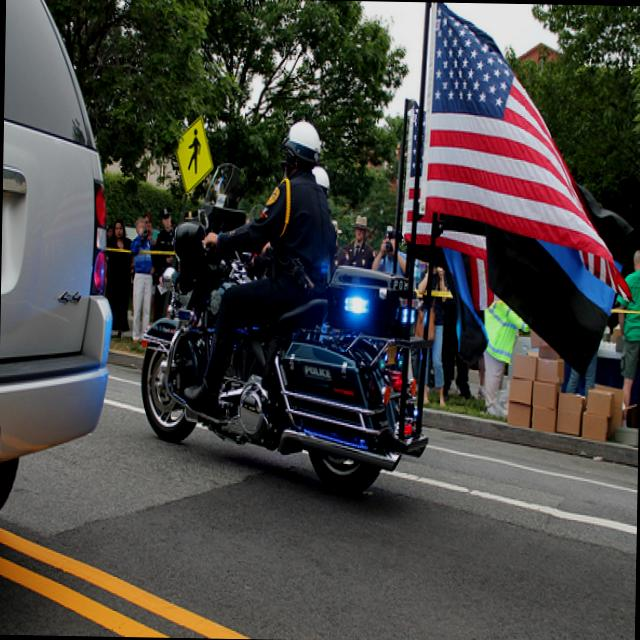Vehicle: (140, 161, 414, 493), (0, 0, 115, 525)
